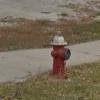Hydrant: (45, 23, 72, 83)
